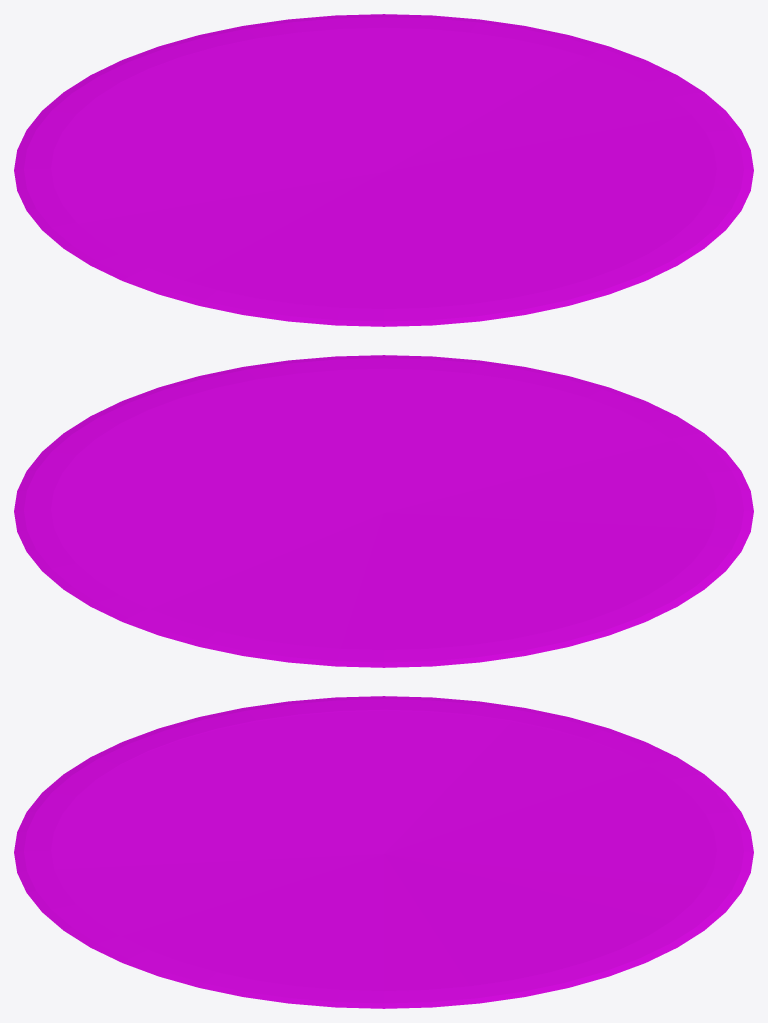
The model's file is коврик.fbx.
3 views of the same model, one above another, from view 1: azimuth 30°, elevation 25°; view 2: azimuth 150°, elevation 25°; view 3: azimuth 270°, elevation 25° (orthographic).
Parts seen in each view (by area): view 1: Torus; view 2: Torus; view 3: Torus.
Boxes of the visible parts, box(x1,y1,x2,y2) form: Torus: box(14, 14, 753, 326); Torus: box(14, 355, 753, 667); Torus: box(14, 696, 753, 1008).
Size of the model in its own units: 985 by 6.04 by 985.
